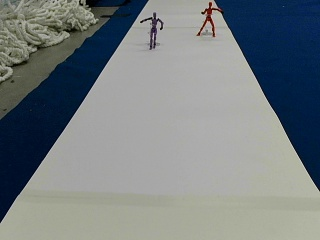pedestrian: (196, 1, 223, 37), (140, 11, 163, 48)
